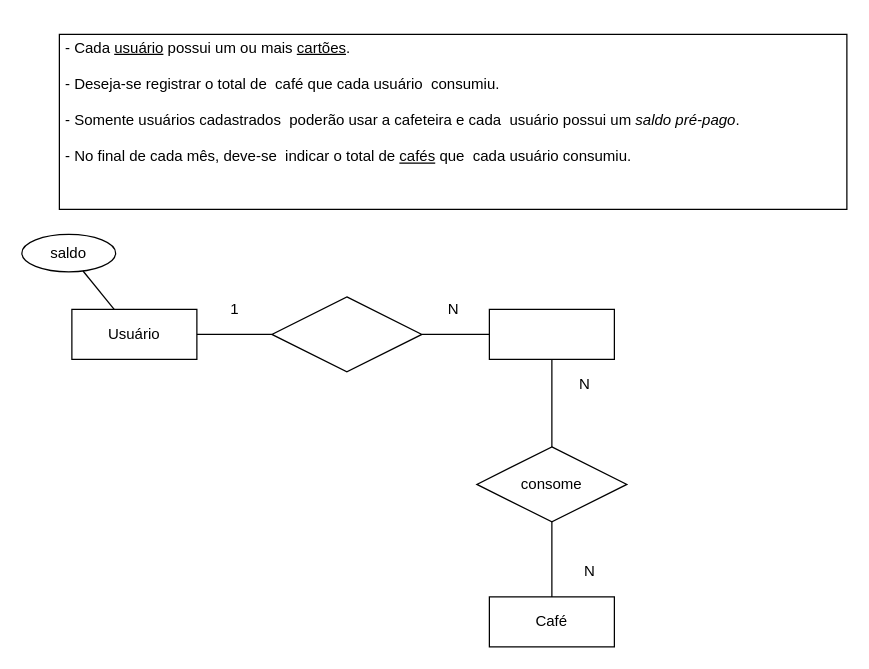
Image size: 869x669. Some labels were removed from this diagram. Each missing label, with the centre of its shape:
Cartão: [551,333]
possui: [346,334]
